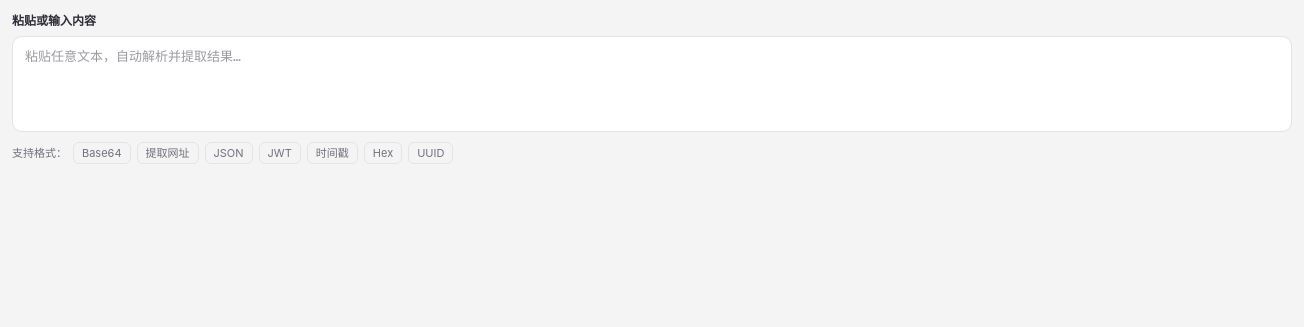
Test: DetectTool 各类型结果视图 › Base64 示例：解码为文本并展示「解码结果」块
Click the button with class "tw-detect__format-chip" showing "Base64": (102, 153) [73,142,130,164]
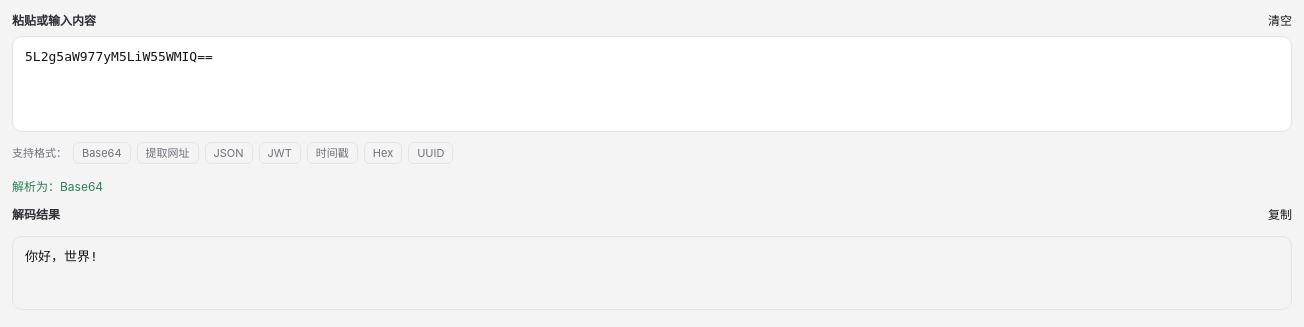
Now the text "解析为：Base64" is shown, box [12,178,103,196]
Now the text "解码结果" is shown, box [12,207,60,222]
